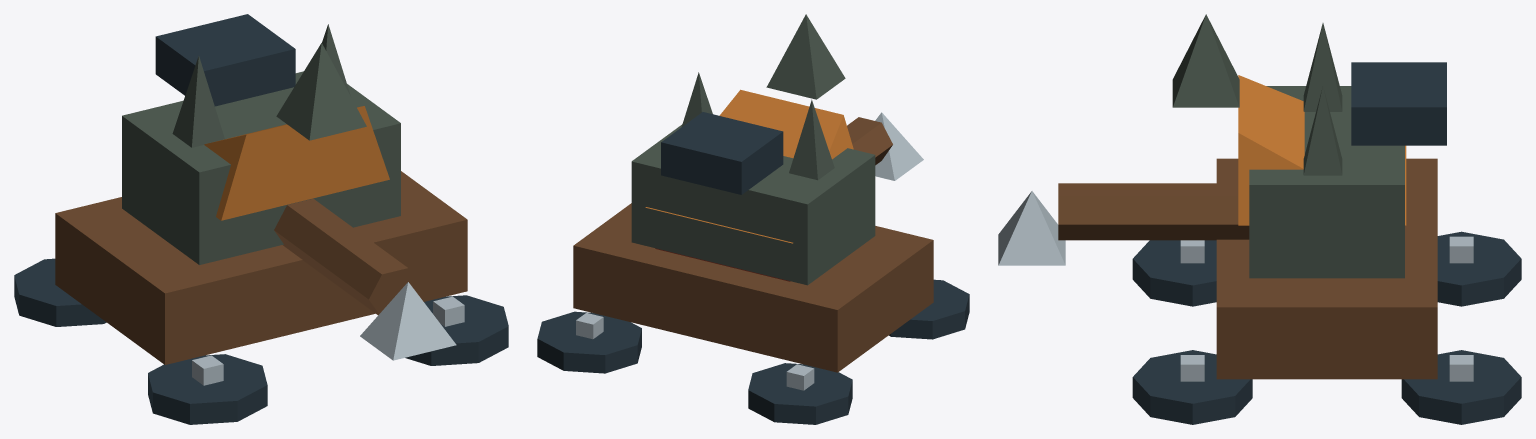
The model's file is siege.obj.
3 views of the same model, side by side, from view 1: azimuth 30°, elevation 25°; view 2: azimuth 150°, elevation 25°; view 3: azimuth 270°, elevation 25° (orthographic). The views are drawn at different scales.
Visible parts, largest first — view 1: siege; view 2: siege; view 3: siege.
Part boxes in pixels (left/top/right/bottom): siege: left=14, top=14, right=508, bottom=424; siege: left=537, top=14, right=969, bottom=424; siege: left=998, top=14, right=1521, bottom=424.
Size of the model in its own units: 1.95 by 1.72 by 2.51.
